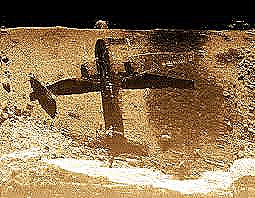aircraft: (31, 19, 196, 137)
